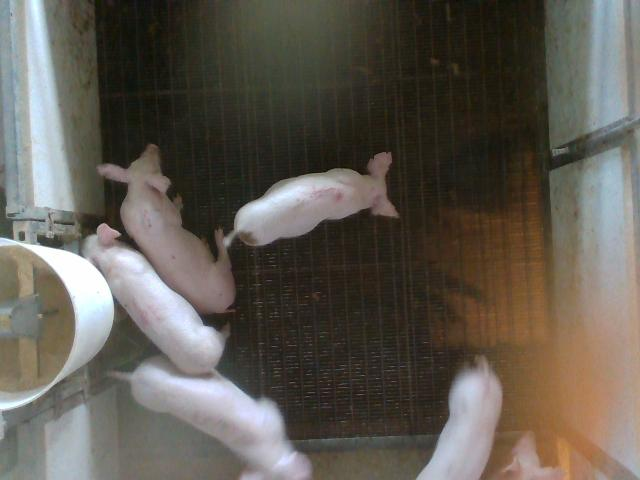pig-4: (84, 224, 229, 375)
pig-5: (225, 152, 398, 246)
